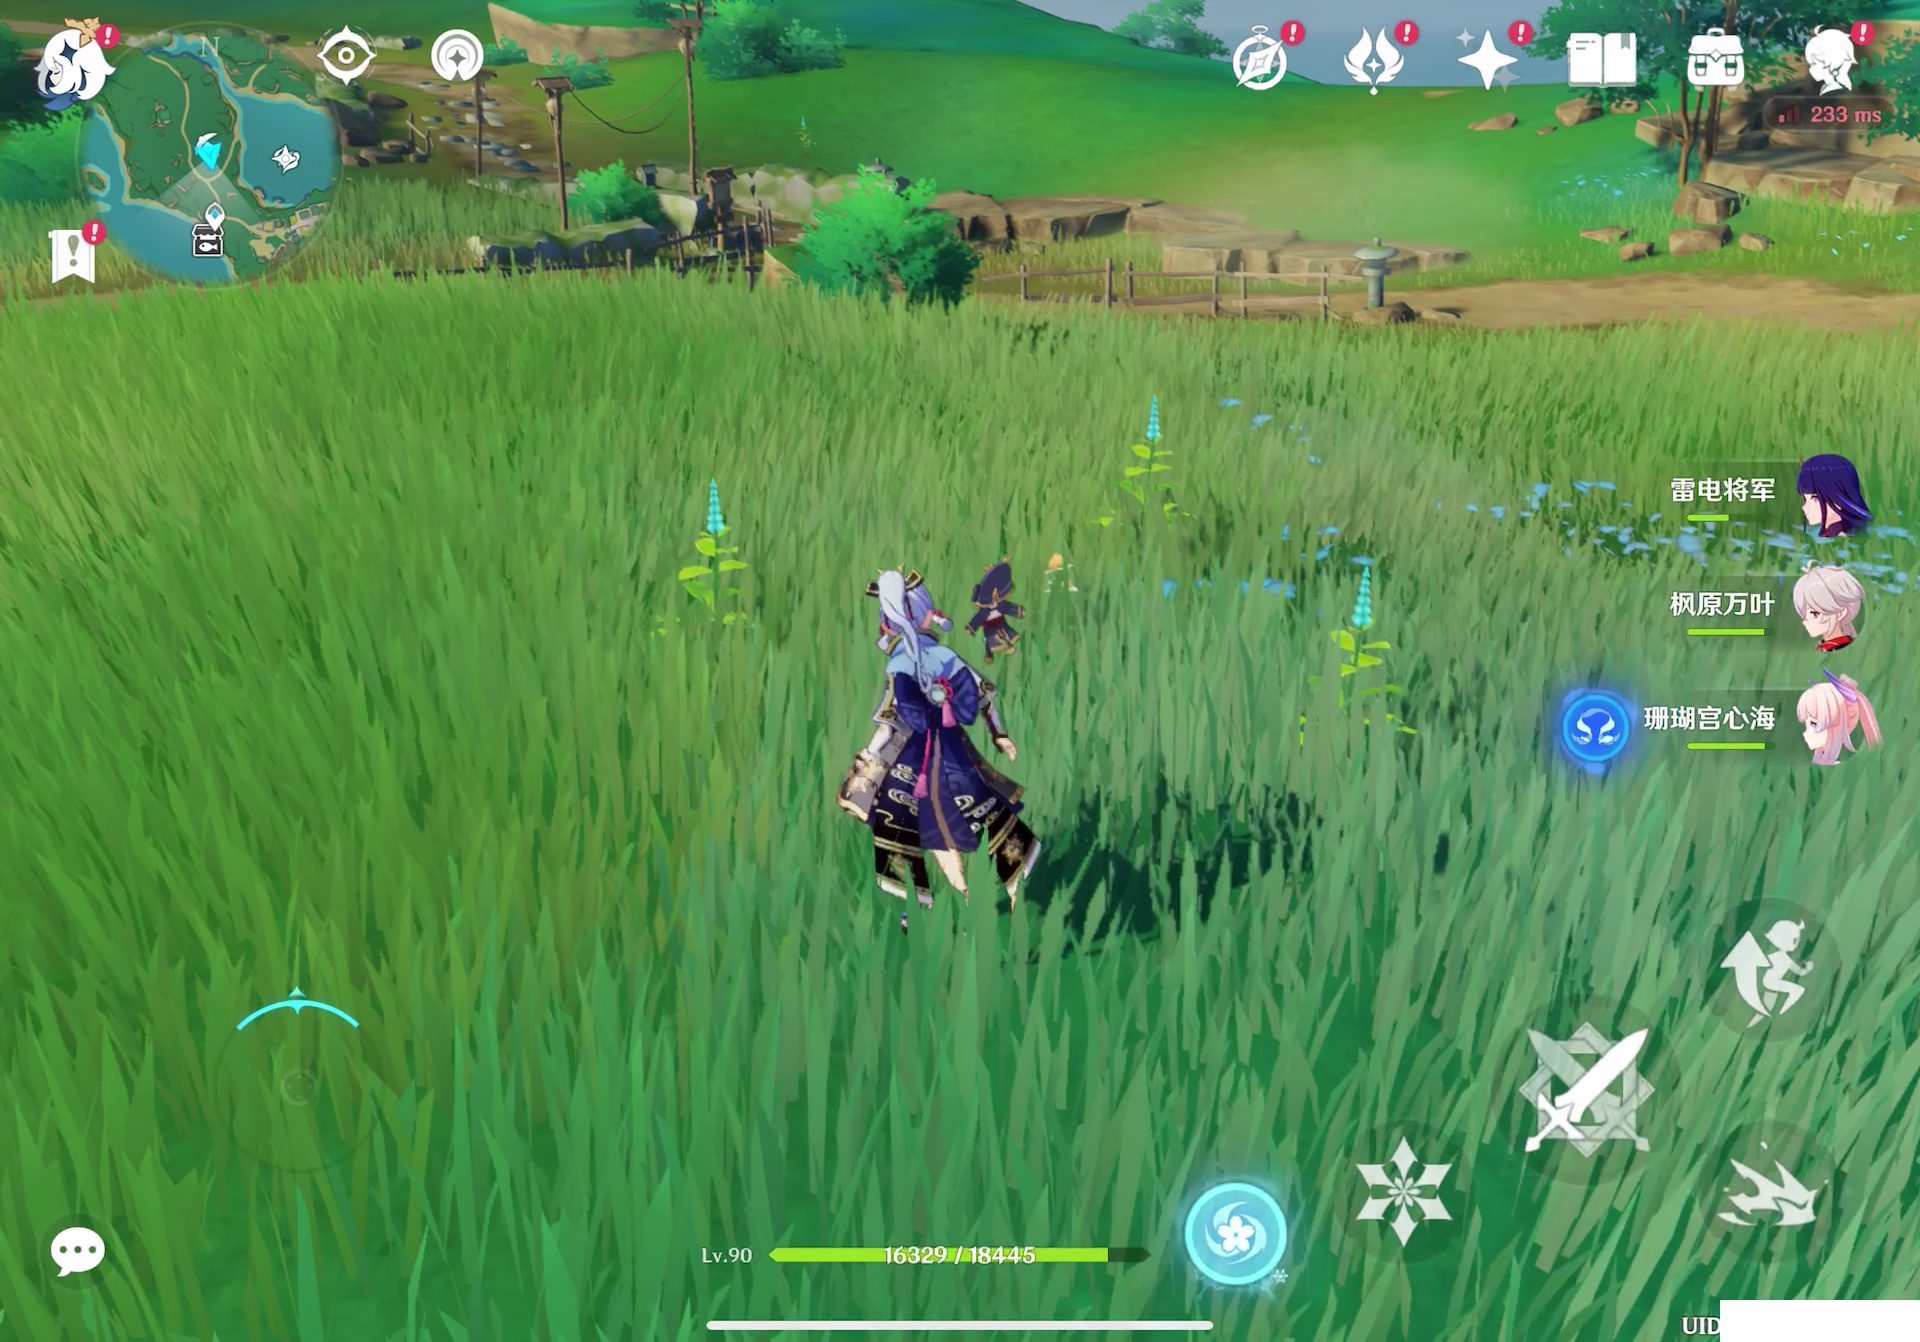没用的甜甜花: (1033, 554, 1091, 629)
没用的薄荷: (1306, 546, 1420, 779), (645, 467, 781, 659), (1091, 395, 1204, 559)
神里绫龟: (821, 546, 1052, 928)
